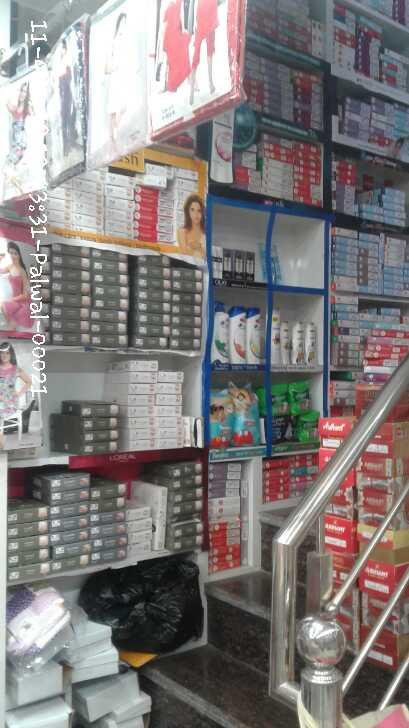venus: (261, 243, 281, 283)
